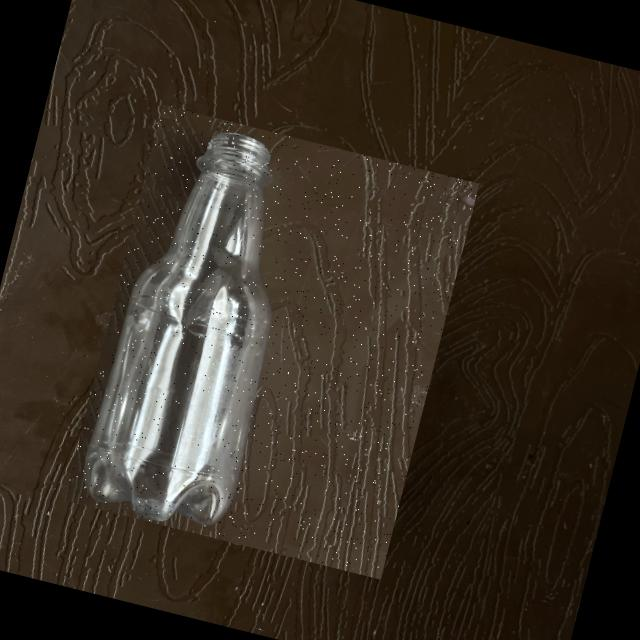PET_ClearBottle: (63, 103, 478, 578)
